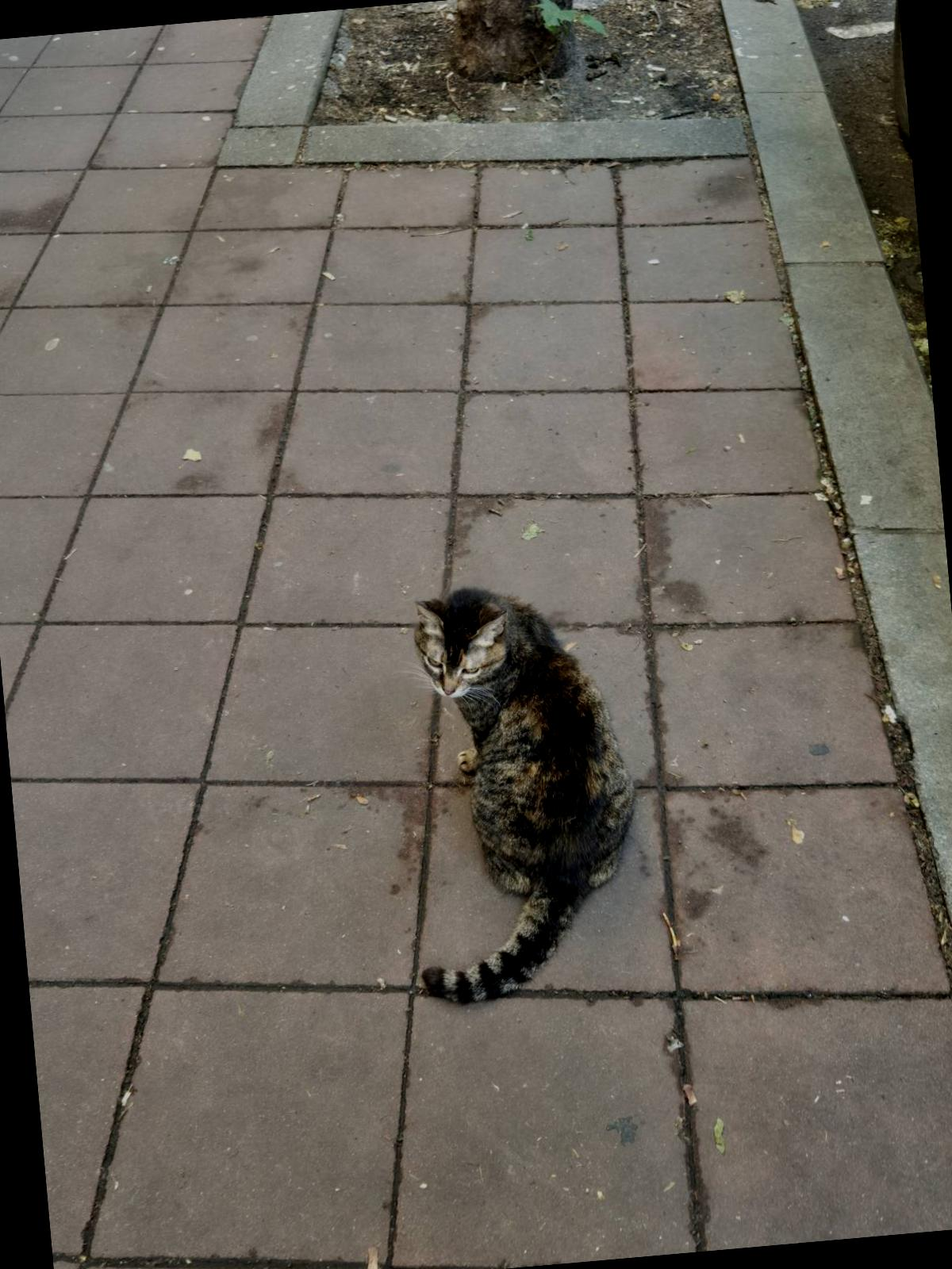macka: (387, 573, 647, 1009)
